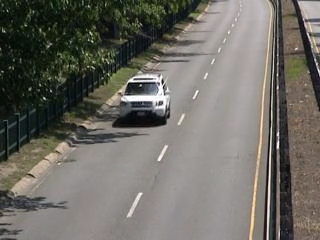car: (117, 70, 177, 127)
